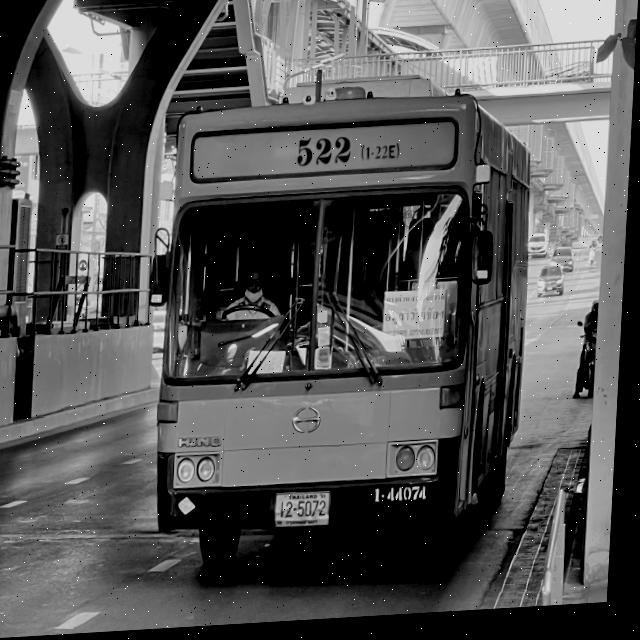BMTA-bus: (149, 93, 540, 588)
Bus-Line-Number: (292, 128, 407, 179)
Destination-Sign-Normal-Expressway: (386, 294, 452, 346)
